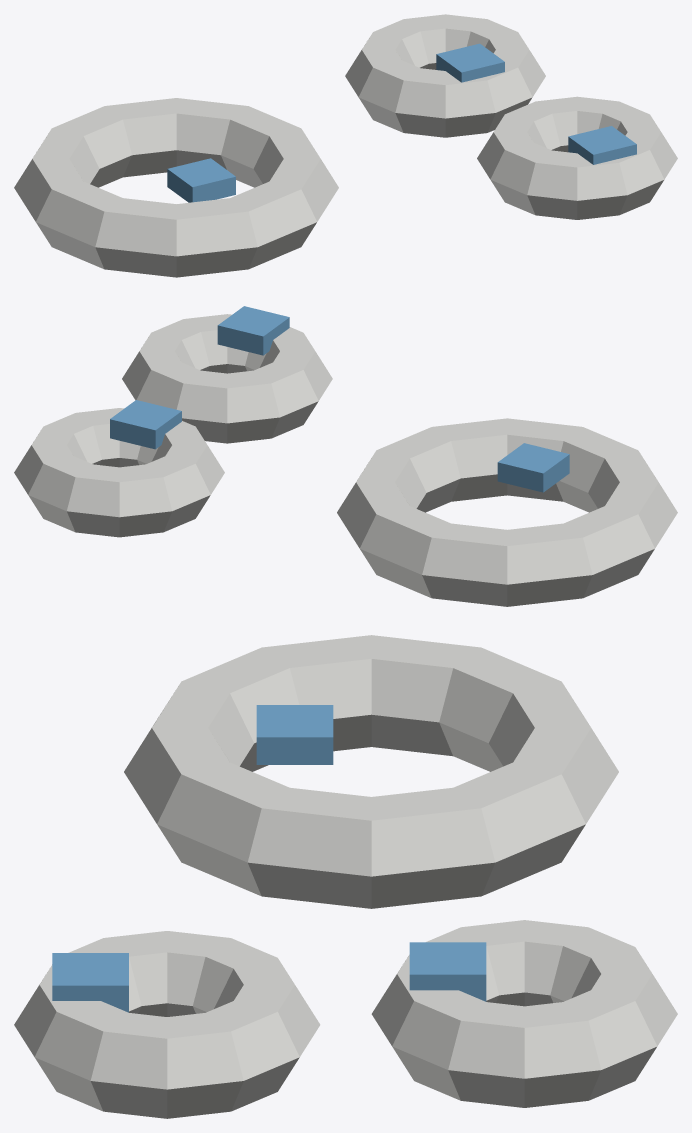
File: tennis-club-and-courts-sweatband-set-9948ba03__33629.glb
3 renders of one model, top to bottom at view 1: azimuth 30°, elevation 25°; view 2: azimuth 150°, elevation 25°; view 3: azimuth 270°, elevation 25°, orthographic. The views are drawn at different scales.
Visible parts, largest first — view 1: sweatband-set; view 2: sweatband-set; view 3: sweatband-set.
Part boxes in pixels (<box>): sweatband-set: <box>14,14,677,277</box>; sweatband-set: <box>14,306,677,606</box>; sweatband-set: <box>14,635,677,1118</box>.
Size of the model in its own units: 0.387 by 0.0413 by 0.26.
